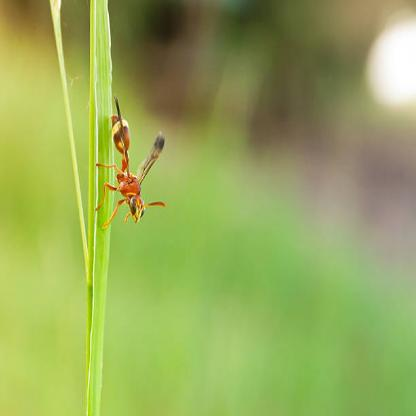sawfly: (92, 94, 172, 242)
